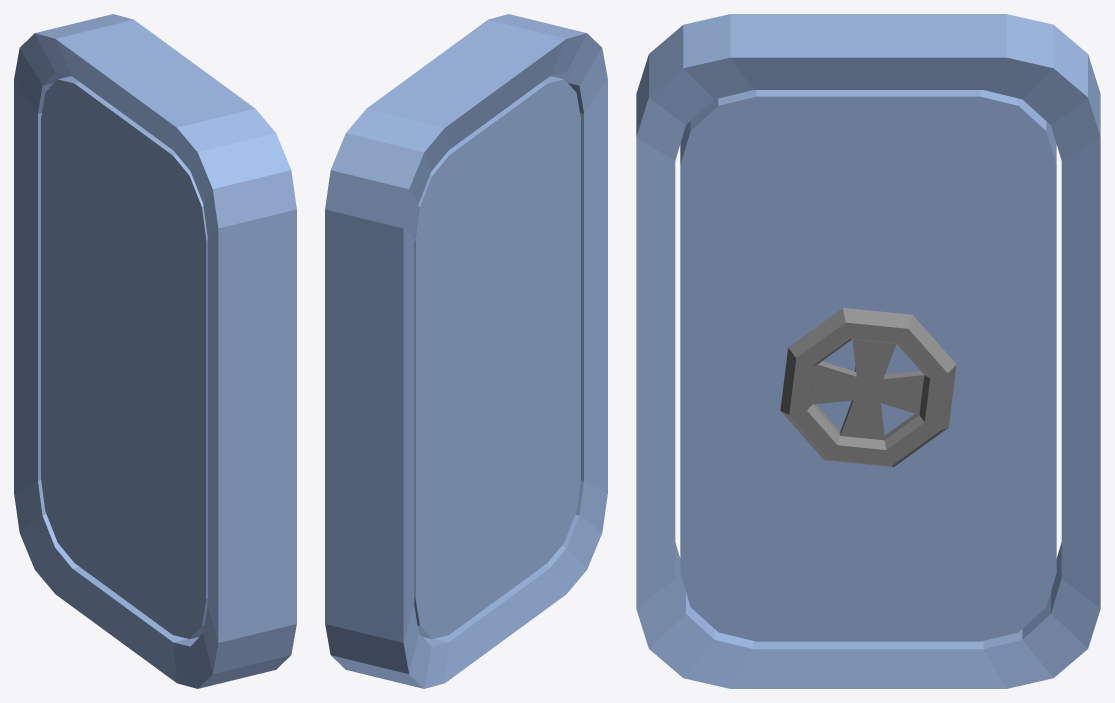
Rendered from spongeBobDvere.fbx.
The picture shows the model from 3 angles, left to right: view 1: azimuth 30°, elevation 25°; view 2: azimuth 150°, elevation 25°; view 3: azimuth 270°, elevation 25°; orthographic projection. The views are drawn at different scales.
Visible parts, largest first — view 1: Cube.001, Cube; view 2: Cube.001, Cube; view 3: Cube, Cube.001, Torus.
Boxes of the visible parts, x1,y1,x2,y2 form: Cube.001: (14, 14, 296, 688); Cube: (41, 76, 207, 638); Cube.001: (325, 14, 607, 688); Cube: (414, 76, 580, 638); Cube: (680, 90, 1056, 641); Cube.001: (636, 14, 1100, 688); Torus: (780, 308, 956, 467).
Bounding box in the file's own units: 167 × 760 × 507.
